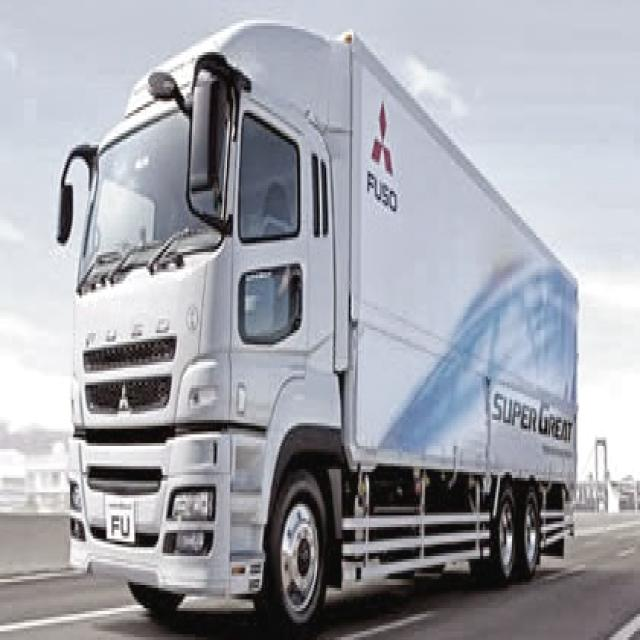truck: (55, 13, 579, 627)
